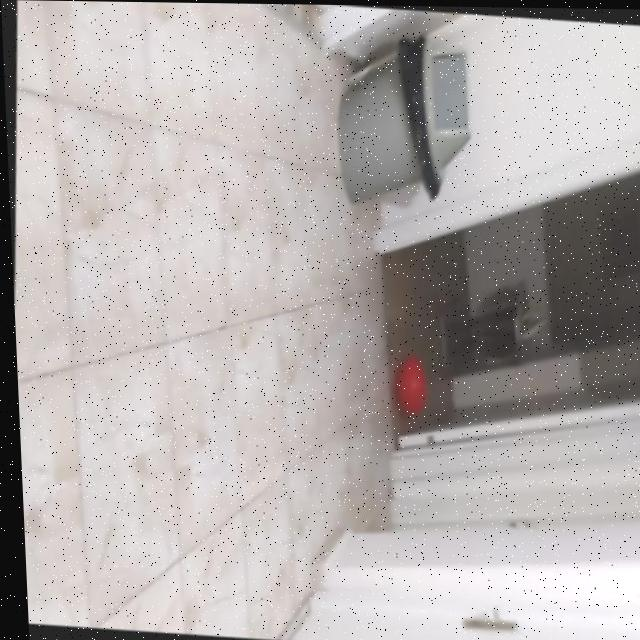balloon: (384, 355, 429, 424)
